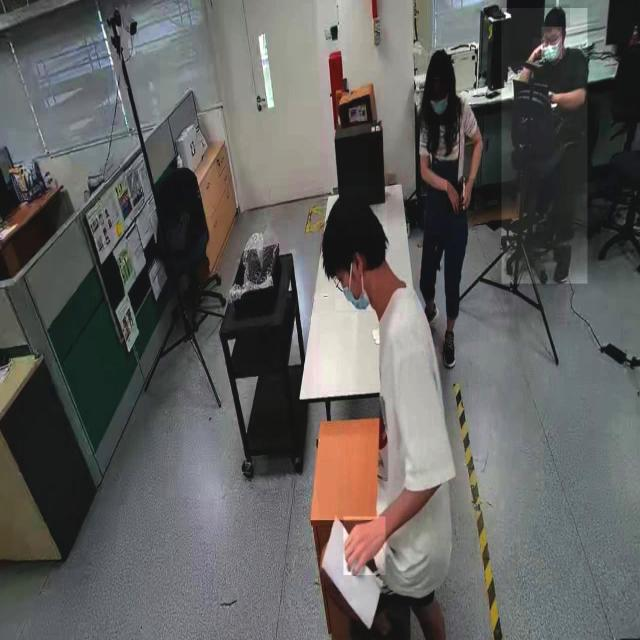face_mask: (336, 262, 376, 310), (426, 79, 452, 125), (541, 26, 562, 59)
hand_noglove: (343, 516, 385, 576), (459, 178, 475, 212), (447, 182, 462, 214), (532, 38, 547, 59)
head_nohelmet: (323, 186, 387, 236), (427, 46, 456, 79), (545, 5, 570, 28)
person: (317, 188, 479, 639), (501, 8, 587, 284), (418, 43, 486, 366)
